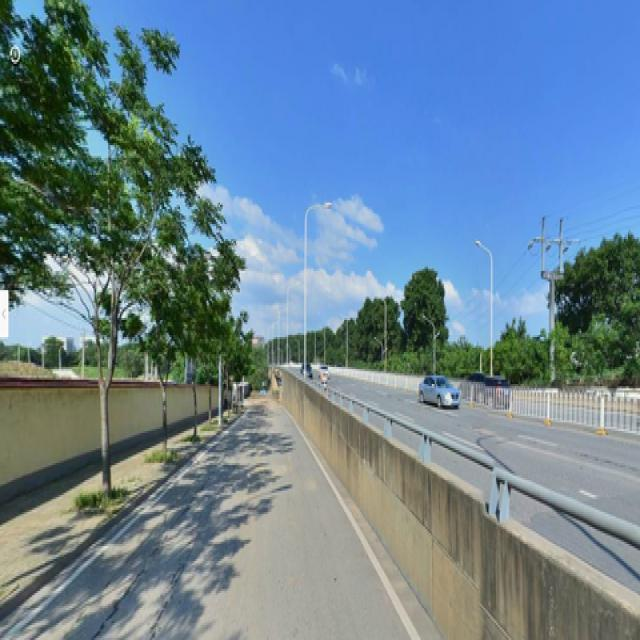koel: (10, 19, 150, 508), (146, 194, 186, 450)
